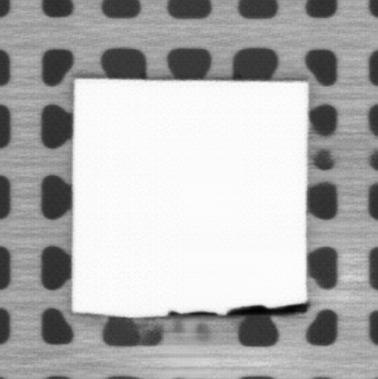DIE_BROKEN: (225, 301, 309, 315), (166, 309, 218, 317)
